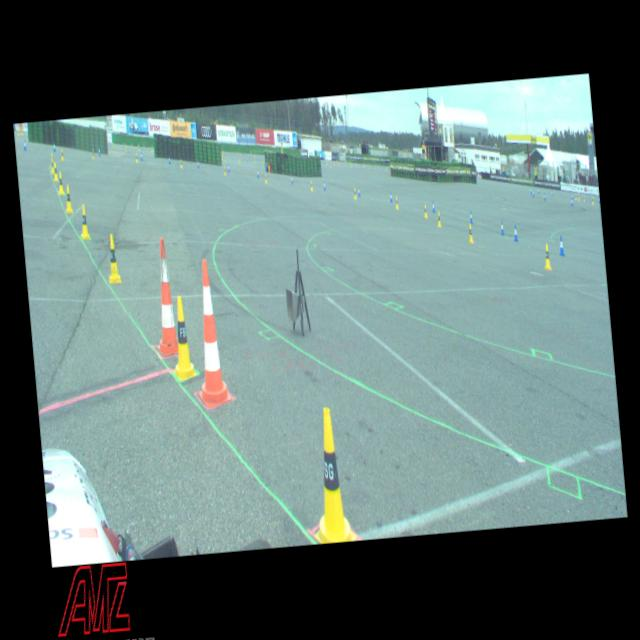blue_cone: (557, 236, 564, 256), (512, 223, 518, 242), (499, 220, 504, 236), (22, 139, 27, 150), (468, 209, 472, 222), (52, 142, 56, 152), (542, 192, 546, 200), (357, 185, 360, 195), (389, 192, 392, 202), (323, 180, 326, 190), (570, 197, 573, 206), (290, 174, 293, 183), (168, 155, 171, 164), (256, 168, 259, 177), (531, 189, 534, 197), (432, 200, 434, 212), (227, 164, 230, 172), (197, 160, 200, 168), (140, 151, 142, 160), (98, 147, 100, 155), (537, 186, 539, 194), (598, 196, 600, 204), (571, 192, 573, 199), (530, 186, 532, 193), (552, 190, 552, 196)
large_orange_cone: (188, 256, 232, 405), (148, 237, 180, 355)
yellow_cone: (308, 408, 352, 542), (166, 294, 196, 379), (105, 232, 122, 284), (78, 203, 91, 240), (63, 184, 73, 214), (543, 244, 551, 268), (56, 170, 64, 193), (466, 223, 474, 243), (52, 162, 58, 180), (436, 210, 441, 227), (422, 204, 428, 217), (49, 153, 54, 167), (50, 158, 54, 174), (352, 187, 357, 198), (394, 195, 398, 208), (60, 148, 64, 160), (134, 153, 138, 162), (91, 148, 94, 158), (590, 197, 594, 204), (264, 173, 267, 182), (222, 167, 225, 176), (576, 192, 579, 200), (310, 180, 312, 191), (180, 158, 182, 168), (574, 192, 576, 200), (126, 144, 128, 152), (582, 194, 584, 200), (261, 162, 263, 166), (254, 158, 255, 162)
